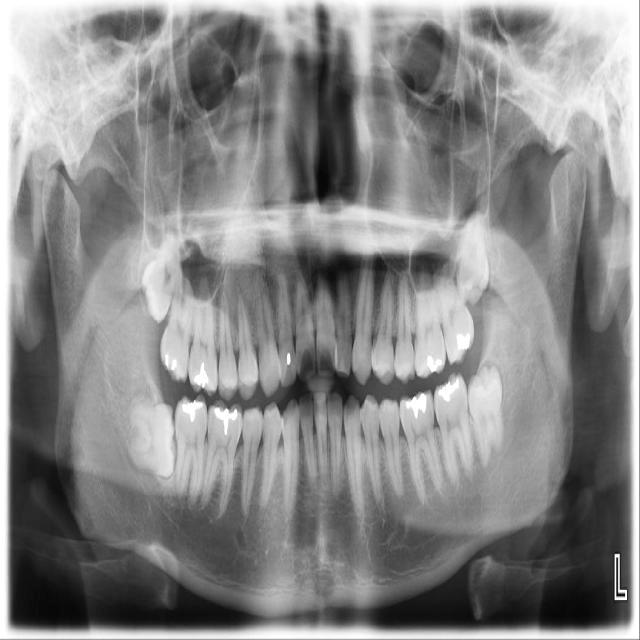Filling: (209, 404, 242, 435), (278, 337, 297, 386), (401, 391, 430, 418), (191, 360, 213, 392), (437, 376, 462, 404), (178, 398, 203, 423), (450, 329, 472, 354), (161, 350, 182, 373), (419, 354, 444, 373)
impacted tooth: (122, 395, 175, 478), (469, 362, 504, 471), (140, 227, 180, 321), (457, 208, 488, 303)
